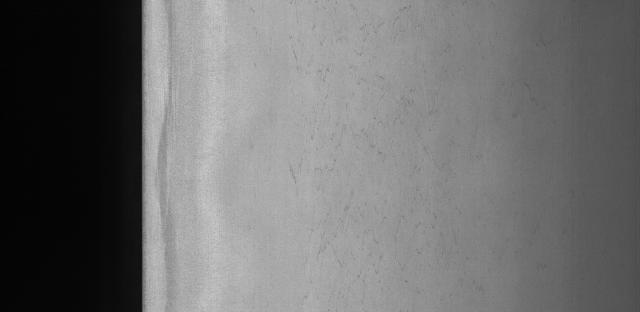silk_spot: (283, 57, 454, 293)
